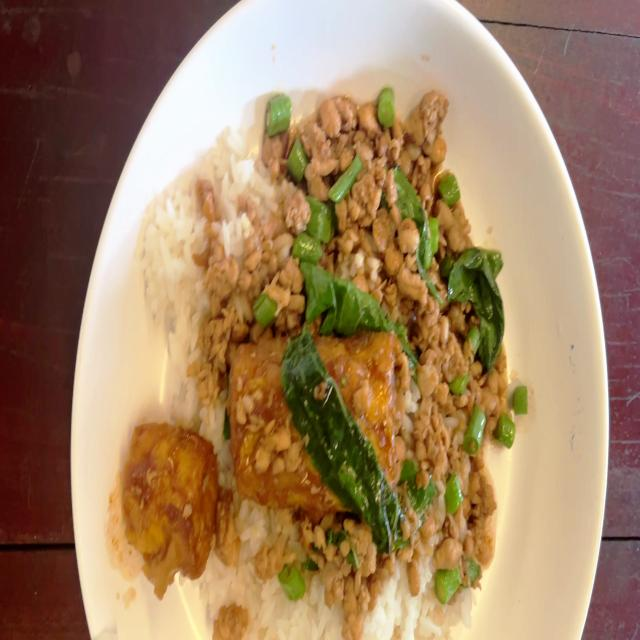fried_tofo: (230, 340, 402, 497), (128, 432, 209, 570)
minced_pork: (195, 100, 506, 334), (403, 330, 516, 586), (258, 504, 403, 621)
rice: (140, 194, 200, 419), (205, 119, 269, 233)
stir_fried_basil: (133, 96, 524, 640)
